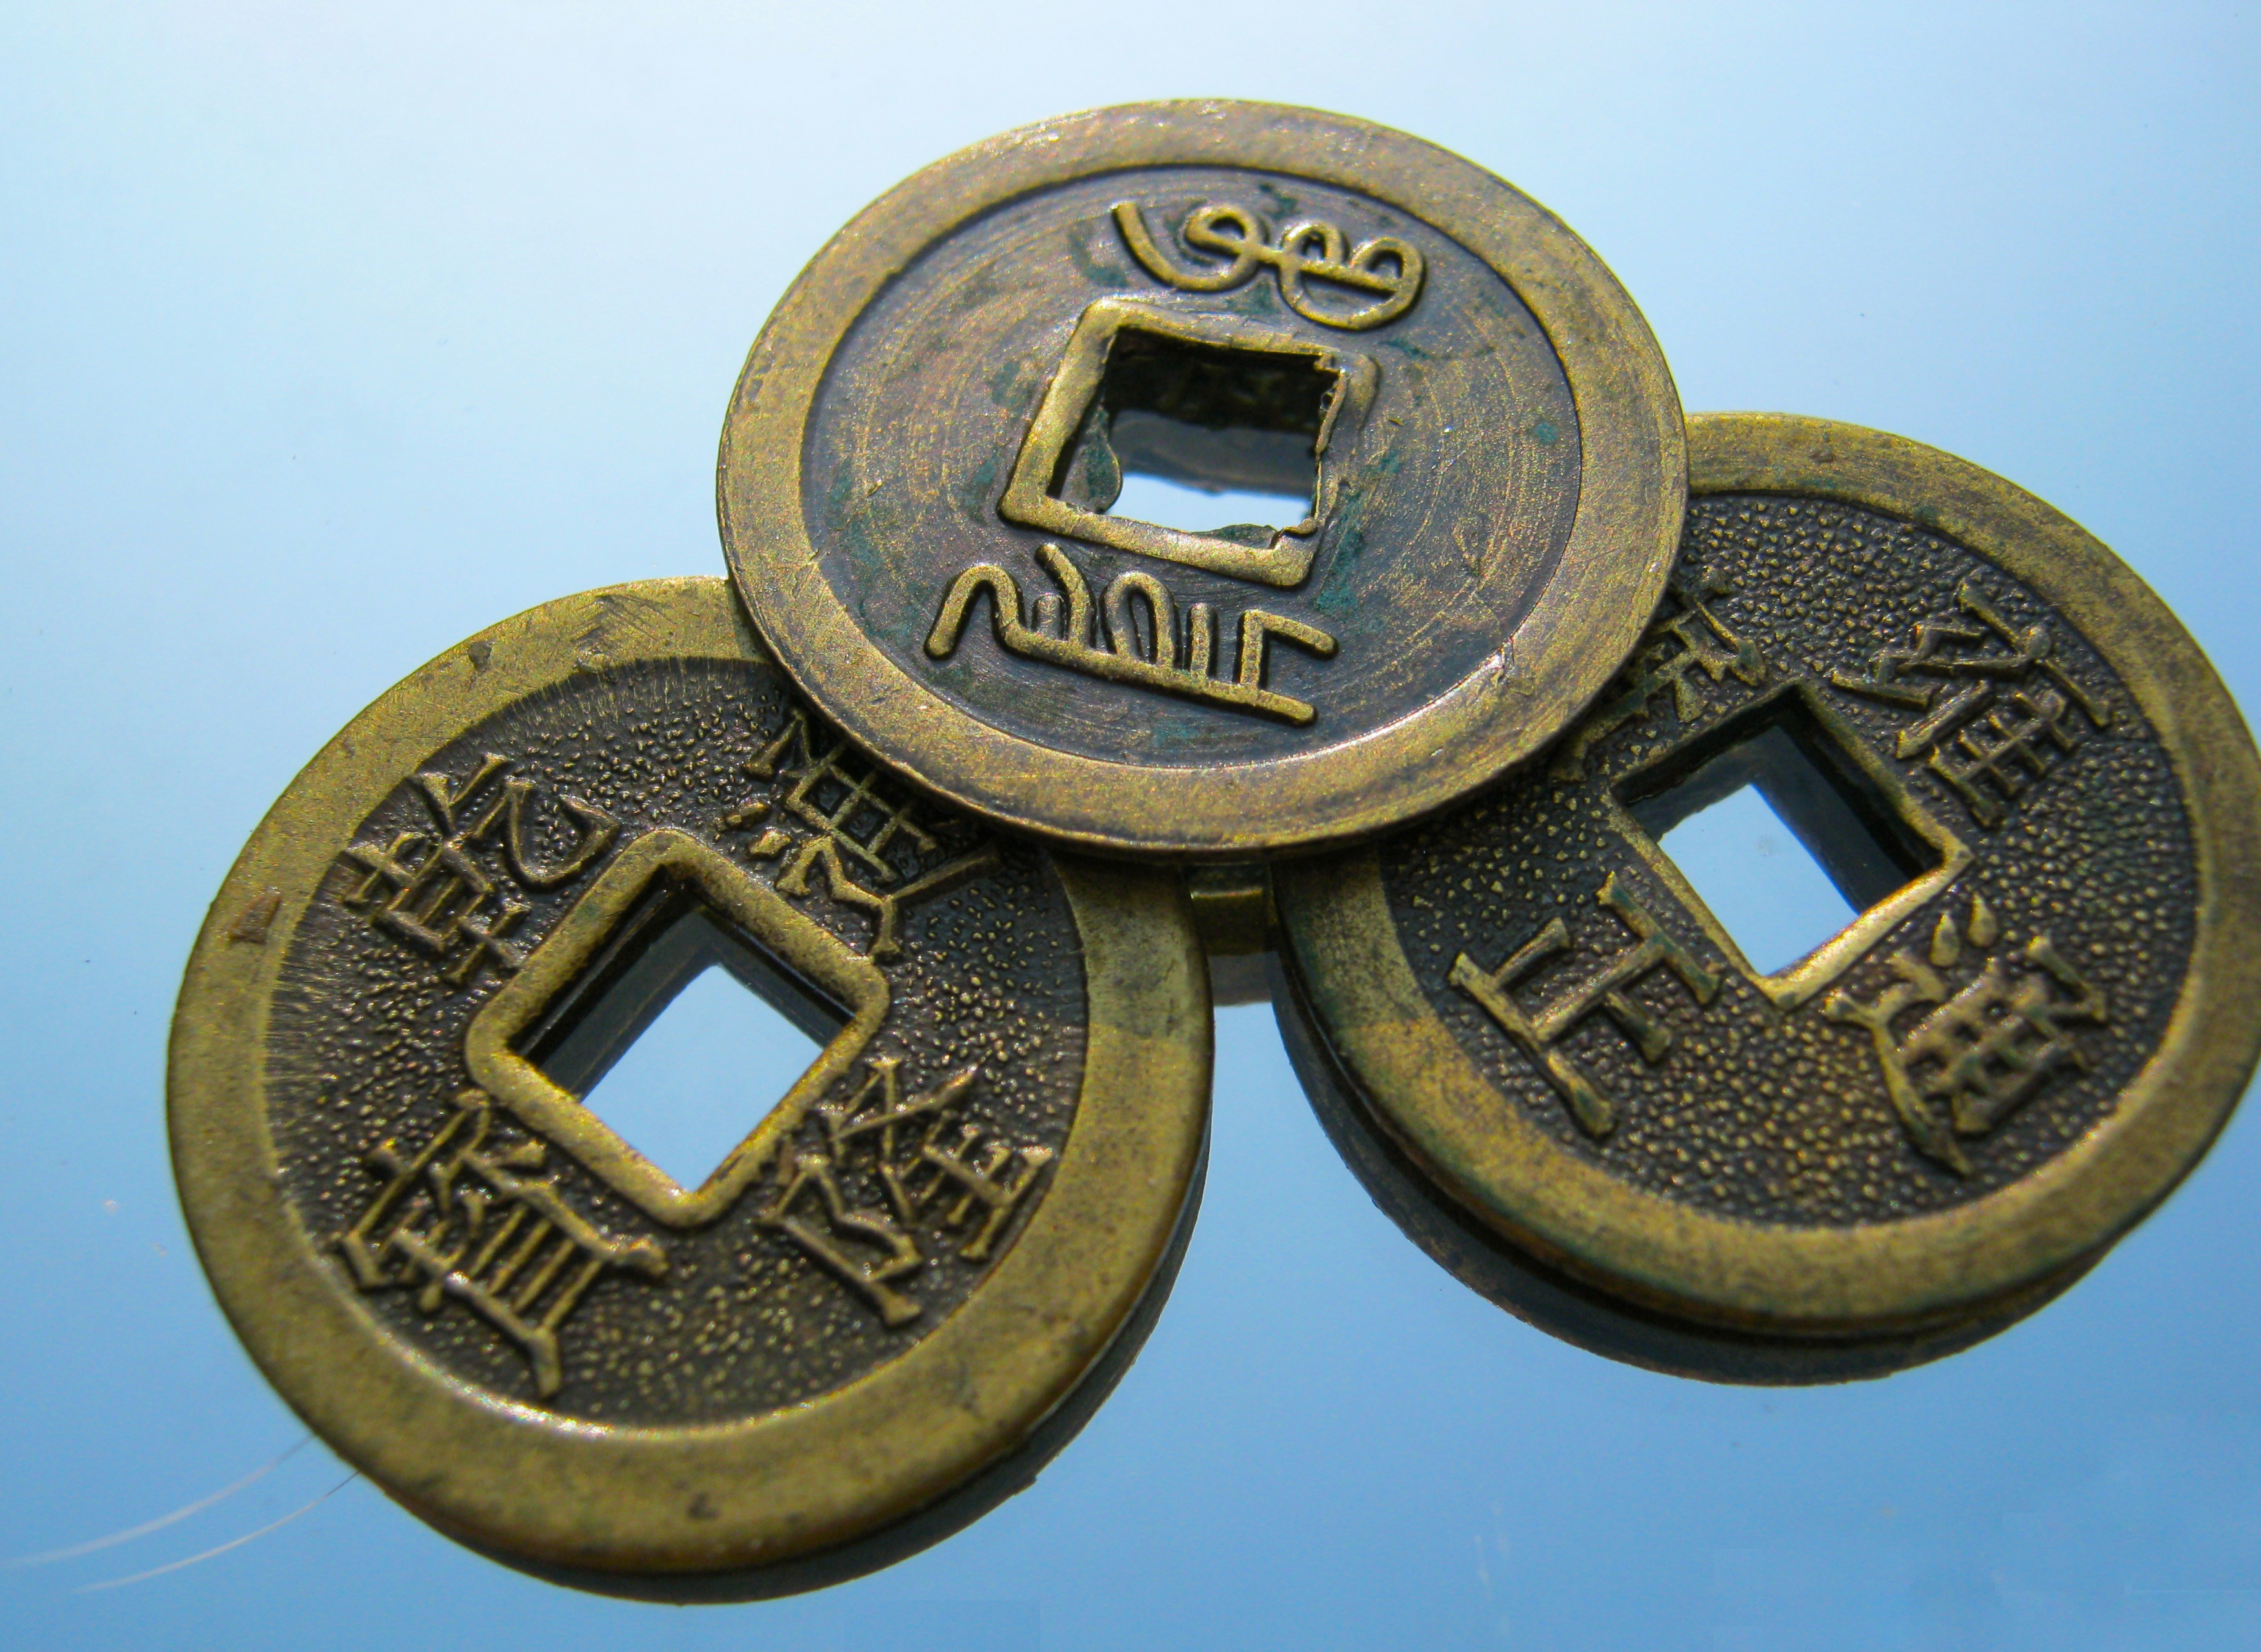coin: (147, 567, 1217, 1608), (1257, 404, 2261, 1397), (723, 90, 1694, 866)
